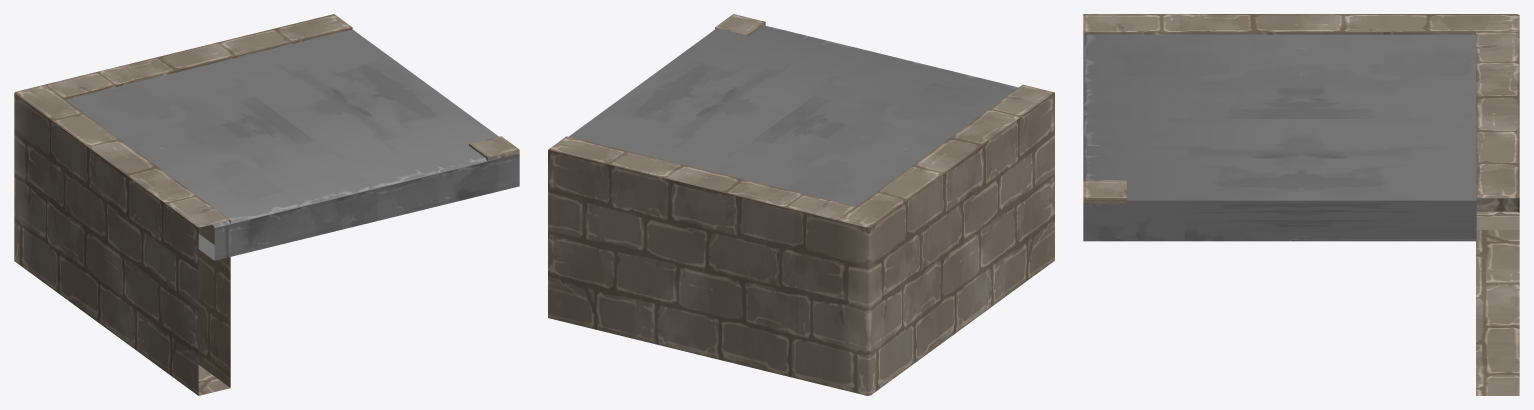
The model's file is stairs_exterior_platform45.glb.
3 views of the same model, side by side, from view 1: azimuth 30°, elevation 25°; view 2: azimuth 150°, elevation 25°; view 3: azimuth 270°, elevation 25° (orthographic). The views are drawn at different scales.
Parts seen in each view (by area): view 1: Stairs_Exterior_Platform45; view 2: Stairs_Exterior_Platform45; view 3: Stairs_Exterior_Platform45.
Boxes of the visible parts, left/top/right/bottom form: Stairs_Exterior_Platform45: left=14, top=14, right=519, bottom=395; Stairs_Exterior_Platform45: left=548, top=14, right=1054, bottom=395; Stairs_Exterior_Platform45: left=1083, top=14, right=1519, bottom=395.
Bounding box in the file's own units: 2 × 1 × 2.
2 materials, 2 textured.
